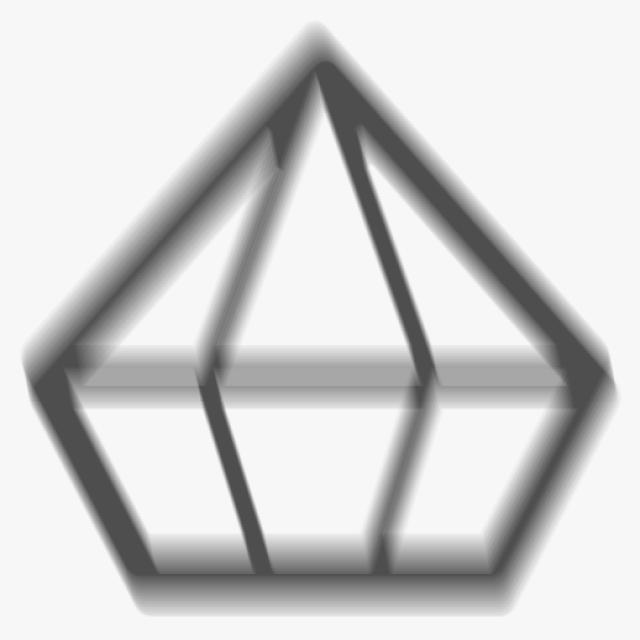diamond: (7, 9, 634, 627)
